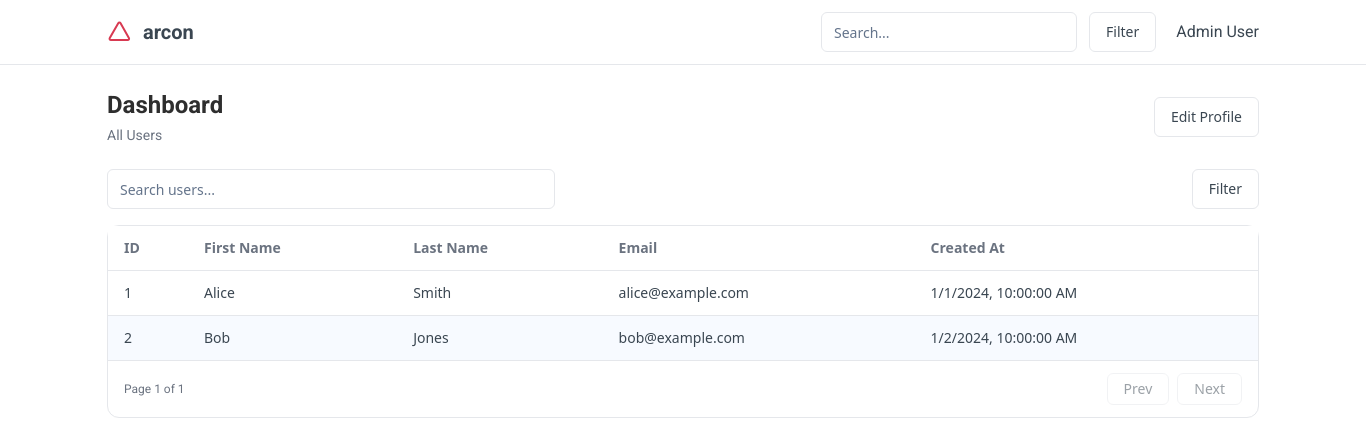
Test case: Dashboard › filters with search input (Toolbar) by name/email
Check: the text "alice@example.com" is shown, box [603,270,915,316]
Type "bob" into the field labelled "Search users..." at (331, 189), box [107,169,555,209]
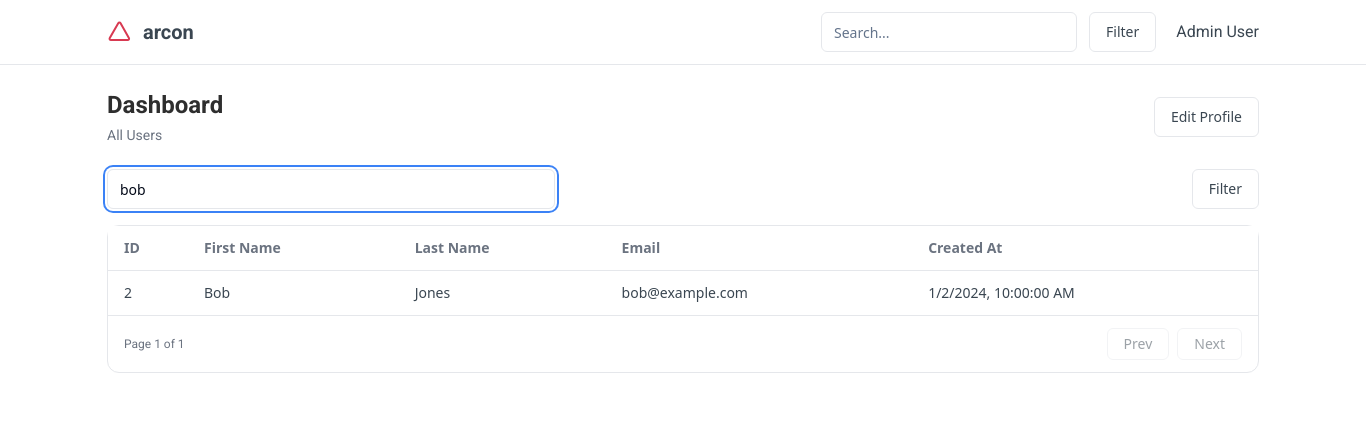
Check: the text "bob@example.com" is shown, box [606,270,912,316]
Check: the text "alice@example.com" is gone
